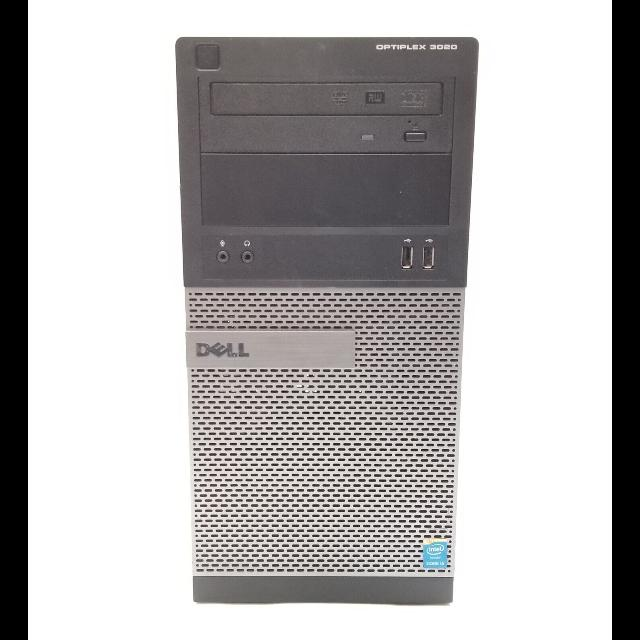Desktop-PC: (166, 29, 484, 608)
